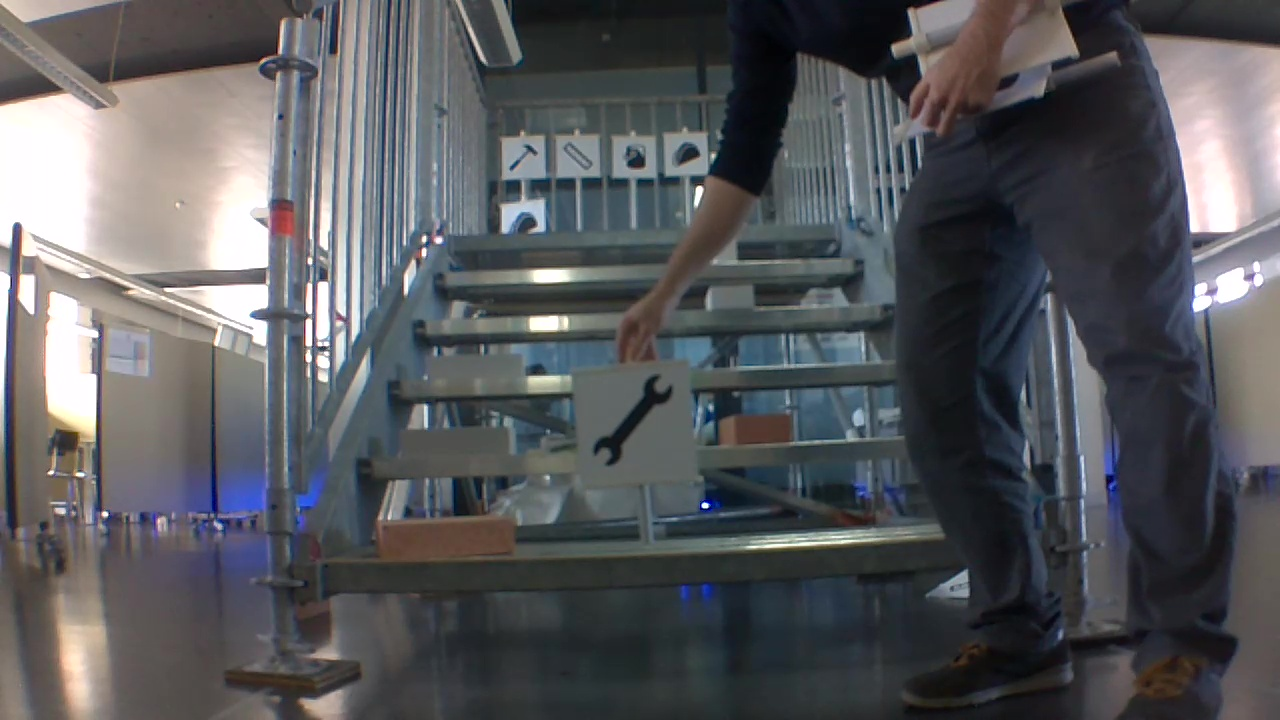brick: (379, 513, 519, 555), (395, 424, 520, 461), (417, 349, 522, 382), (726, 417, 792, 445), (709, 283, 756, 307), (713, 238, 737, 264)
bucket: (622, 140, 650, 172)
edge: (316, 529, 952, 606)
hammer: (506, 141, 539, 173)
ruler: (560, 141, 597, 173)
taco: (666, 141, 703, 168), (510, 209, 539, 233)
wrench: (593, 371, 676, 468)
